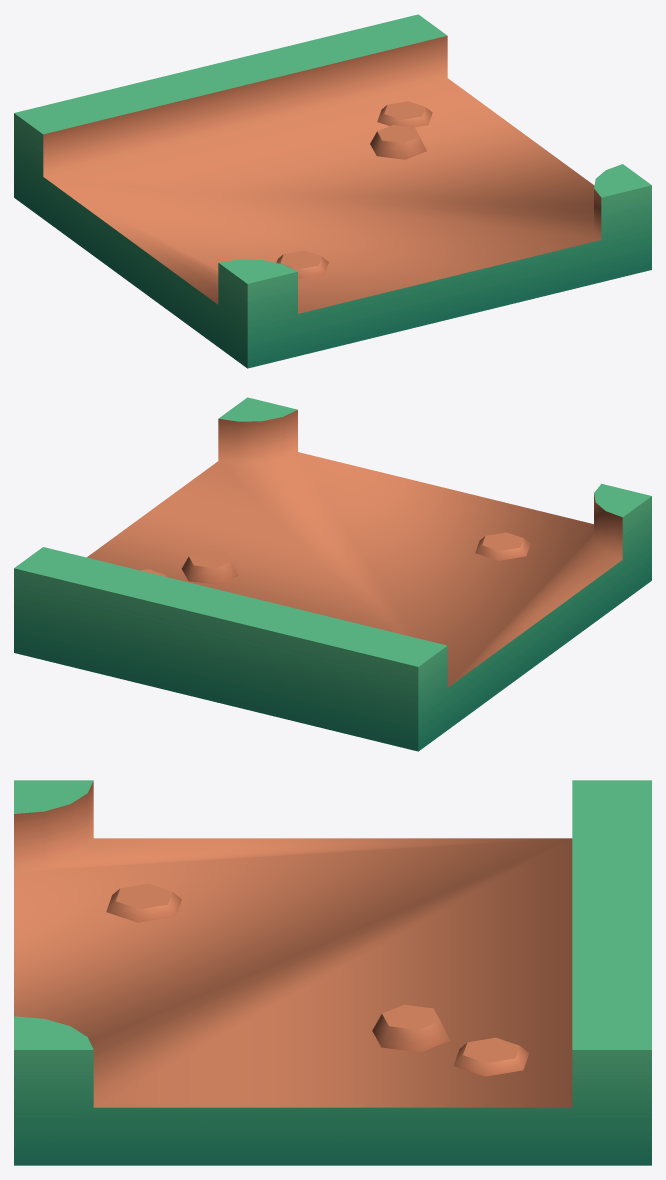
File: kenney-tower-defense-tile-split.glb
3 views of the same model, one above another, from view 1: azimuth 30°, elevation 25°; view 2: azimuth 150°, elevation 25°; view 3: azimuth 270°, elevation 25° (orthographic). The views are drawn at different scales.
Visible parts, largest first — view 1: tile-split; view 2: tile-split; view 3: tile-split.
Boxes of the visible parts, x1,y1,x2,y2 form: tile-split: (14, 14, 651, 368); tile-split: (14, 397, 651, 751); tile-split: (14, 780, 651, 1165).
Size of the model in its own units: 1 by 0.2 by 1.
Materials: 1 (1 with a texture image).
